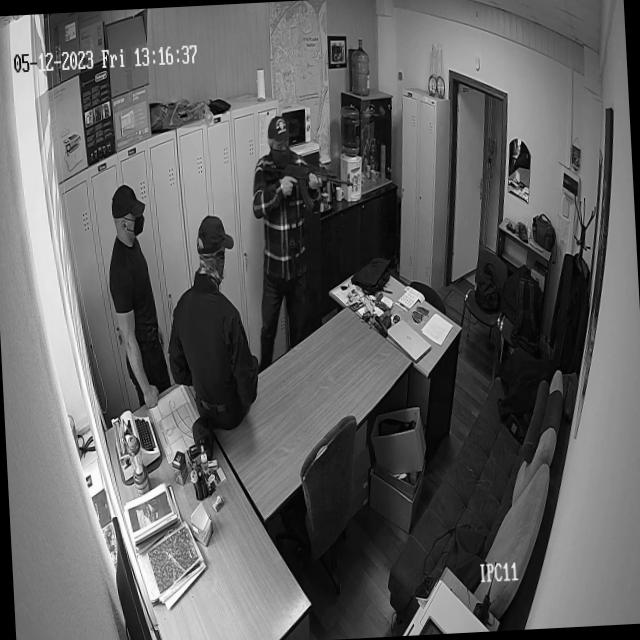gun: (263, 158, 354, 219), (505, 217, 517, 238)
person: (160, 217, 262, 442), (106, 184, 172, 404)
person with a gun: (248, 112, 362, 369)
